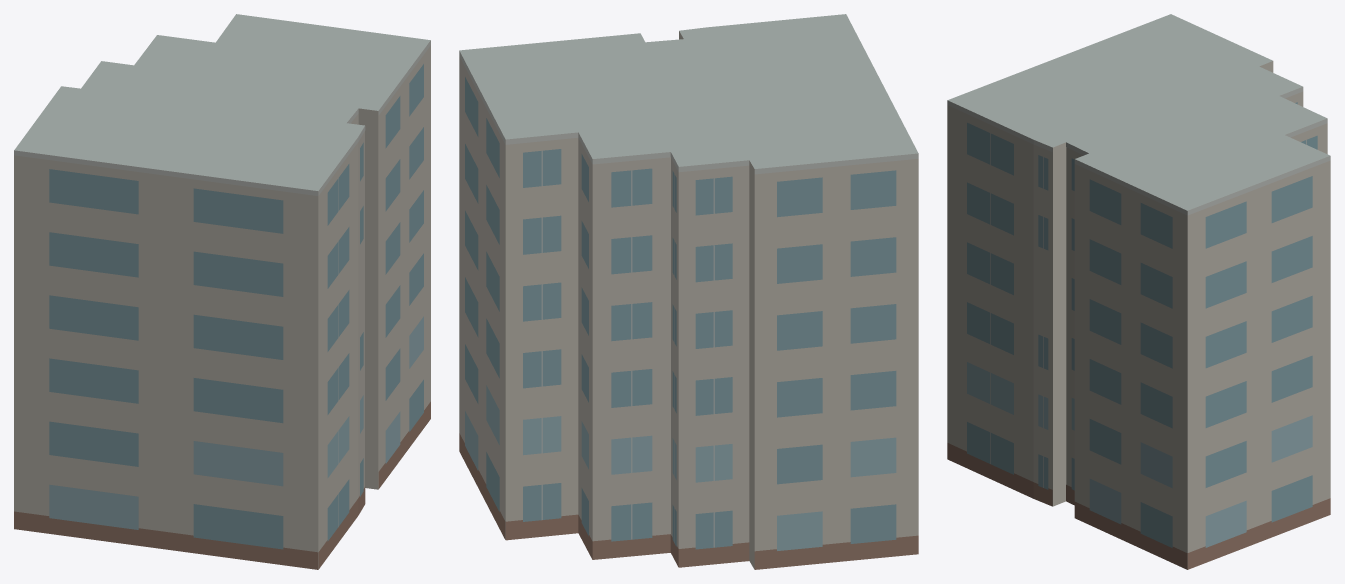
File: survey-upis-32560827.glb
3 views of the same model, side by side, from view 1: azimuth 30°, elevation 25°; view 2: azimuth 150°, elevation 25°; view 3: azimuth 270°, elevation 25° (orthographic). The views are drawn at different scales.
Parts seen in each view (by area): view 1: survey-upis-32560827.tmp; view 2: survey-upis-32560827.tmp; view 3: survey-upis-32560827.tmp.
Boxes of the visible parts, x1,y1,x2,y2 form: survey-upis-32560827.tmp: (14, 14, 430, 569); survey-upis-32560827.tmp: (459, 14, 918, 569); survey-upis-32560827.tmp: (947, 14, 1330, 569).
Bounding box in the file's own units: 21.52 × 18.3 × 17.7.
